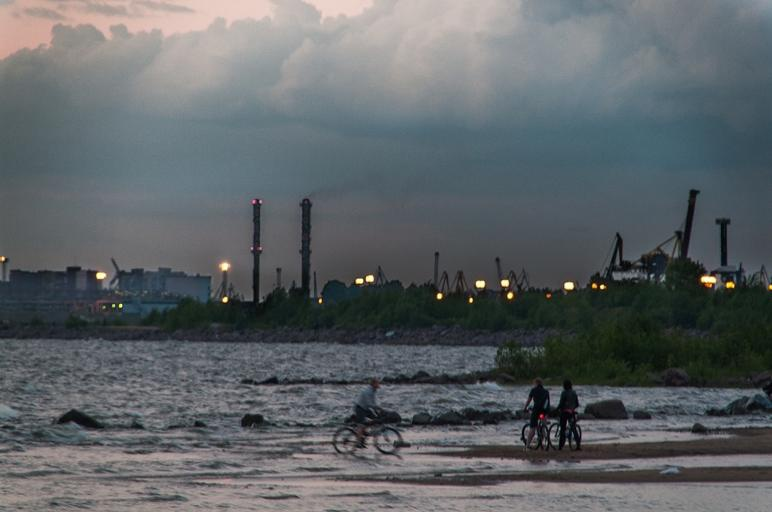non-vehicle: (330, 408, 405, 456), (548, 407, 584, 451), (517, 407, 551, 451)
